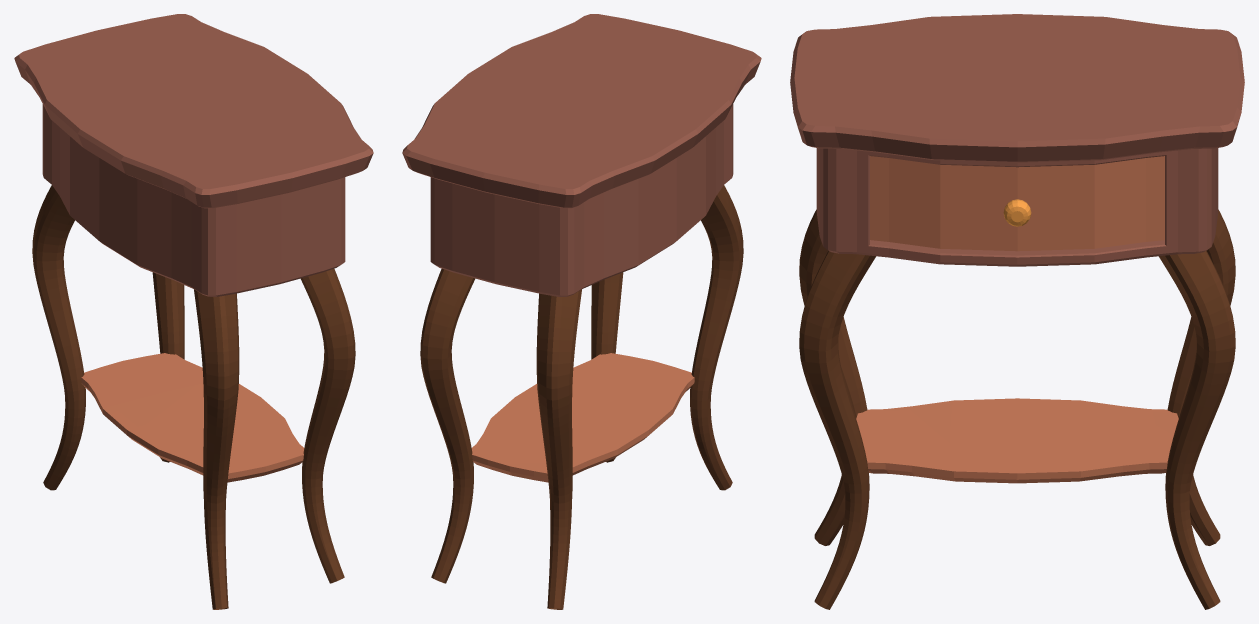
Rendered from Tisch Klein.glb.
3 renders of one model, left to right at view 1: azimuth 30°, elevation 25°; view 2: azimuth 150°, elevation 25°; view 3: azimuth 270°, elevation 25°, orthographic. The views are drawn at different scales.
Visible parts, largest first — view 1: Tisch Ablage.001; view 2: Tisch Ablage.001; view 3: Tisch Ablage.001.
Part boxes in pixels (box(x1,y1,x2,y2)): Tisch Ablage.001: box(14, 14, 373, 609); Tisch Ablage.001: box(402, 14, 761, 609); Tisch Ablage.001: box(790, 14, 1244, 609).
Bounding box in the file's own units: 0.4351 × 0.7768 × 0.6416.
Materials: 1 (1 with a texture image).
